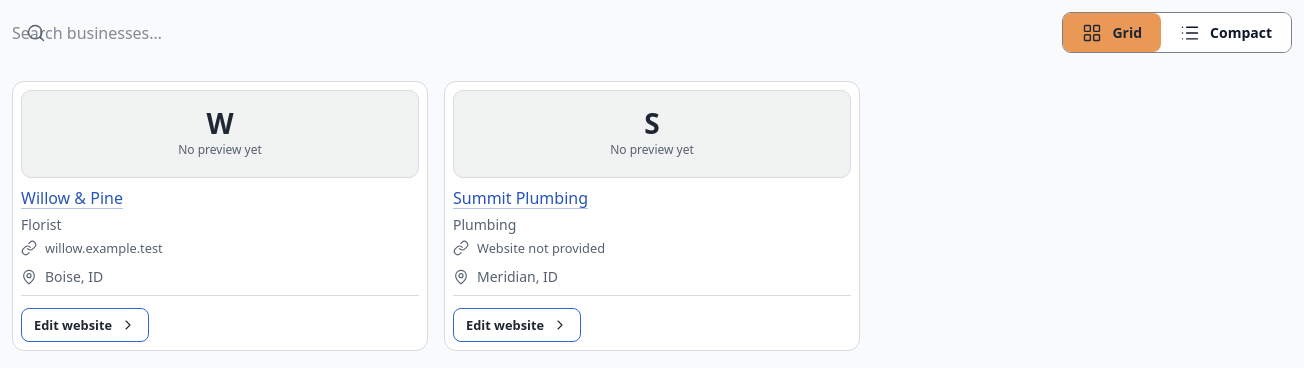
business browsing › filters displayed metadata without losing context or actions across layouts
Step 1. Type "  MERIDIAN " into the search field labelled "Search businesses" → (527, 32), box [12,20,1042,44]
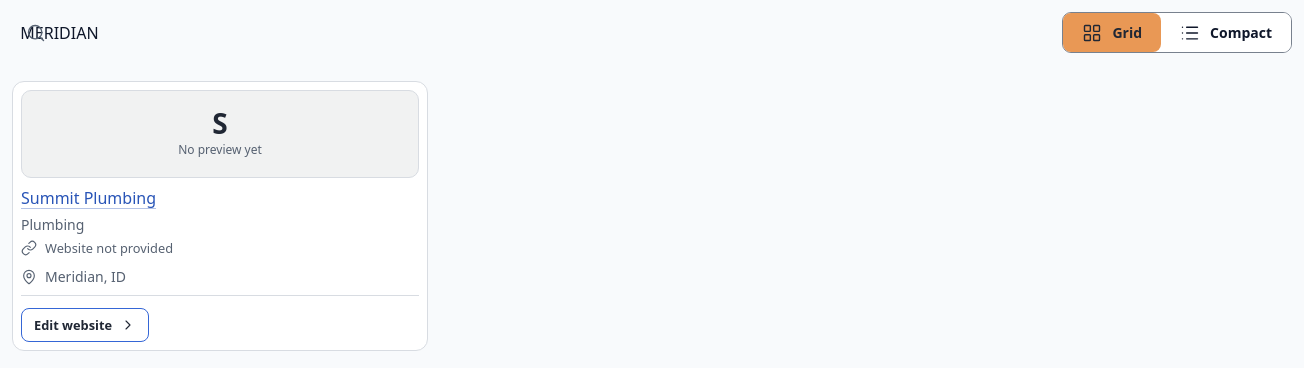
Result: the link "Willow & Pine" is gone
Step 2. Click the button "Compact" → click(1226, 32), box [1161,13,1291,52]
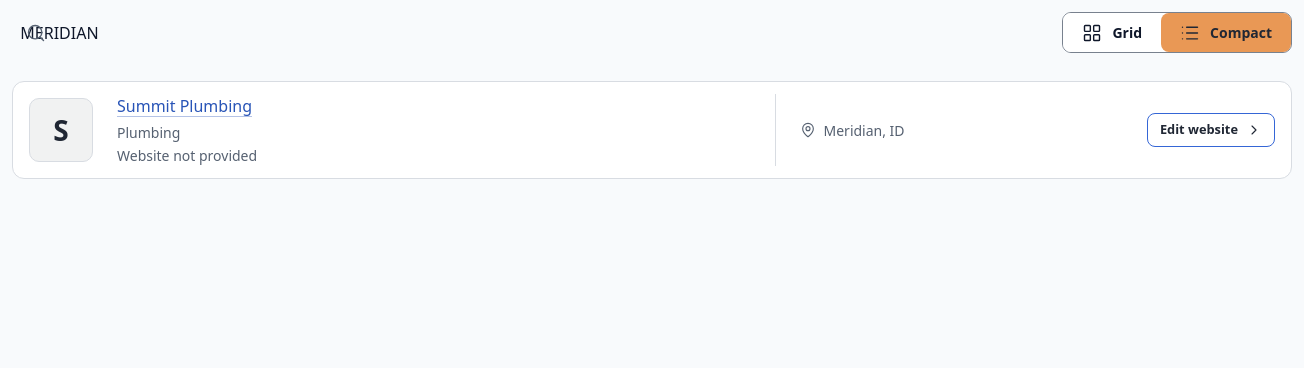
Result: the button "Compact" is pressed at [1161,13,1291,52]
Step 3. Replace the text in the search field named "Search businesses" with "willow.example.test" → (527, 32), box [12,20,1042,44]
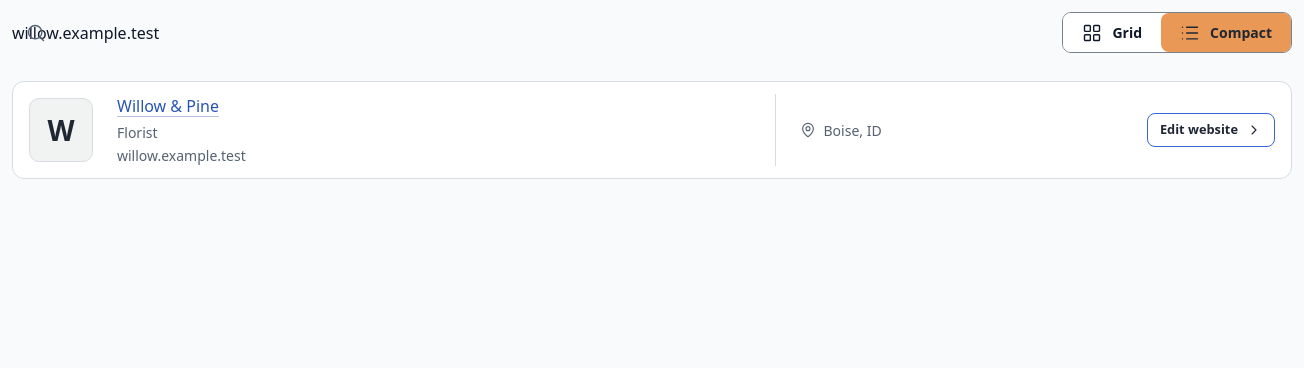
Result: the link "Willow & Pine" is shown at [117,95,219,117]
Result: the link "Summit Plumbing" is gone
Step 4. Replace the text in the search field named "Search businesses" with "missing" → (527, 32), box [12,20,1042,44]
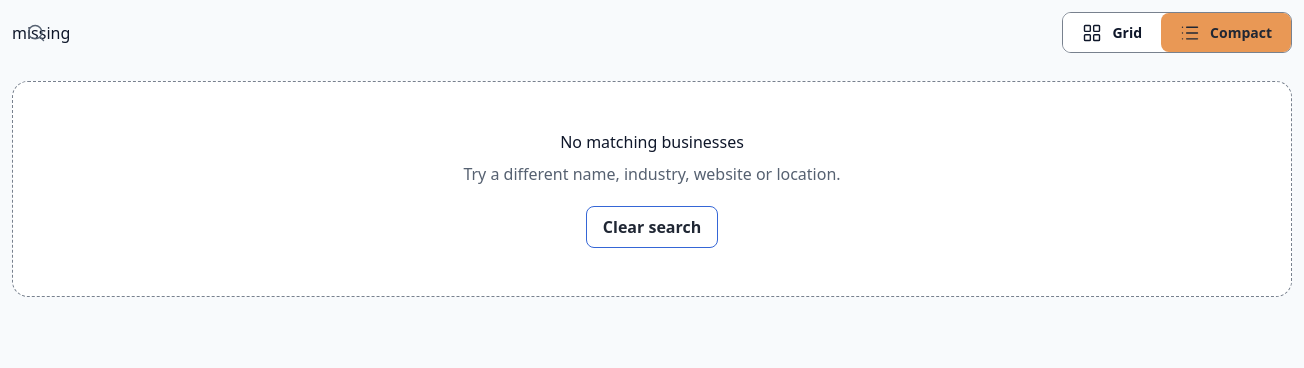
Result: the heading "No matching businesses" is shown at [560,131,744,153]
Step 5. Click the button "Clear search" → click(652, 227), box [586,206,718,248]
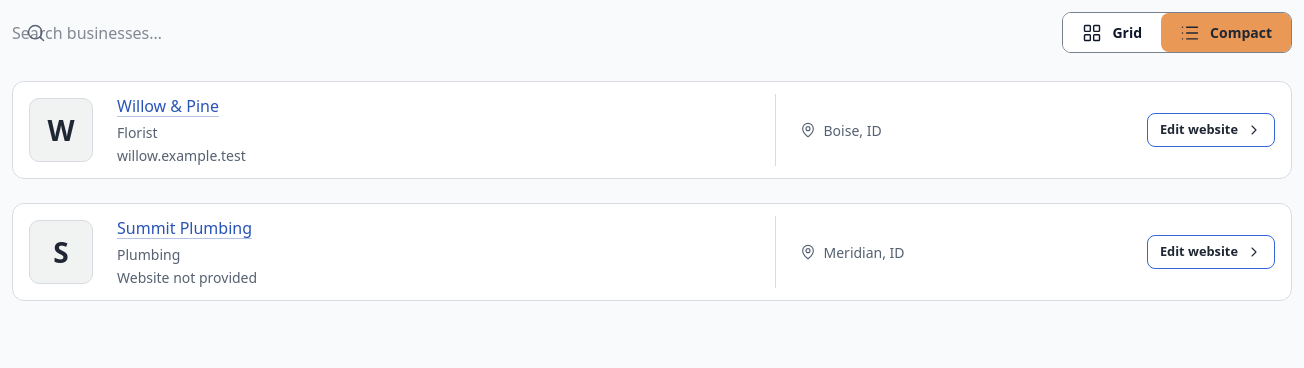
Result: the link "Summit Plumbing" is shown at [117,217,252,239]
